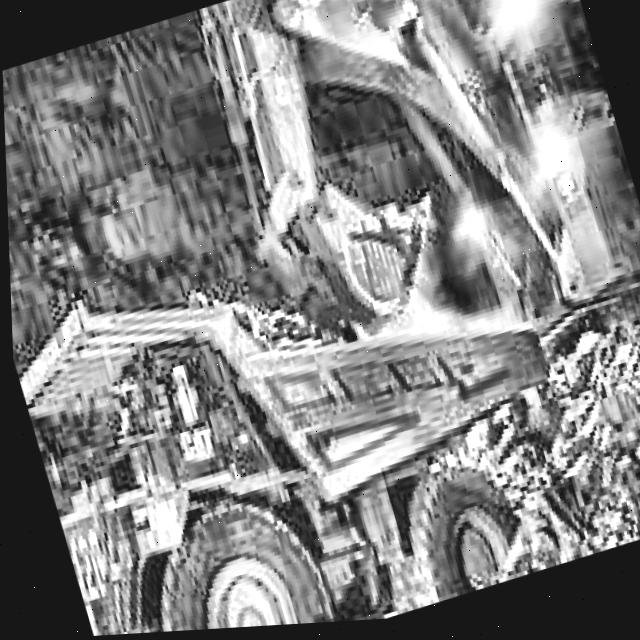dump_truck: (6, 180, 613, 640)
excavator: (166, 0, 640, 492)
